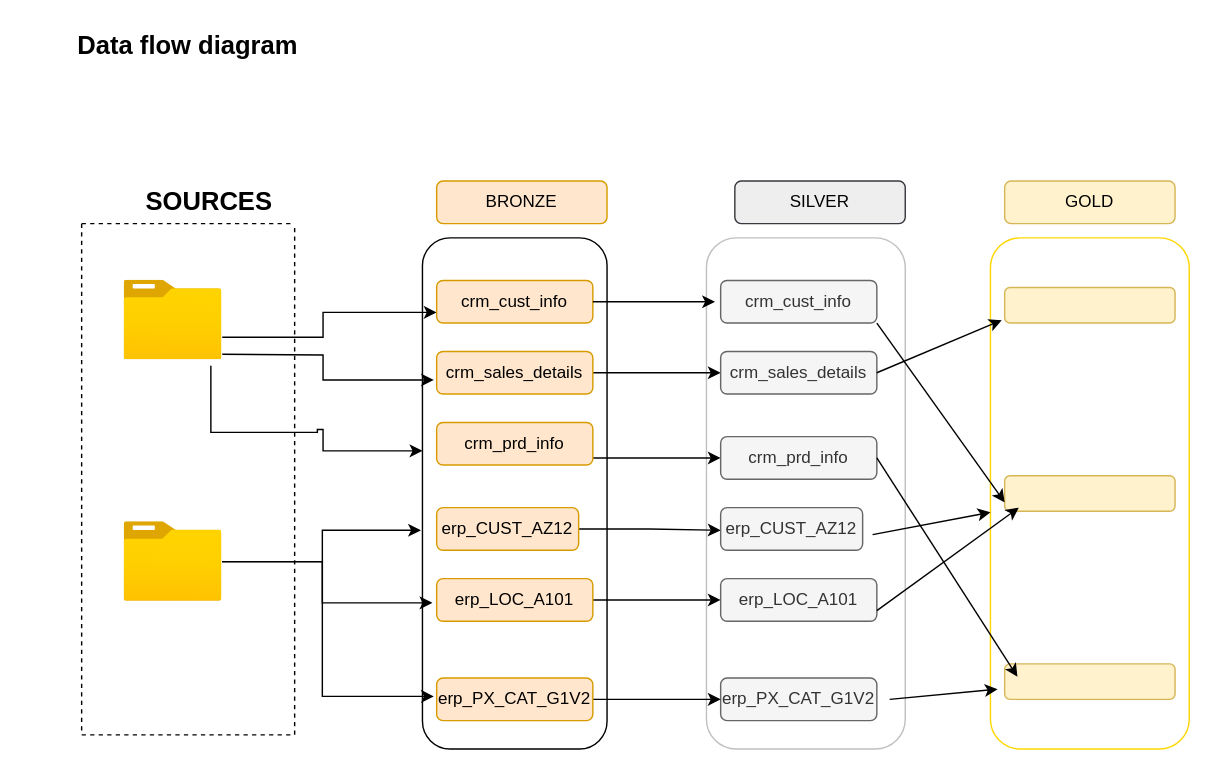
Some shapes in this 1214 by 774 pixel diagram are drawn without their labels. Each missing label, with the box of its shape:
CRM: (124, 280, 222, 359)
dim_customers: (1003, 474, 1175, 511)
dim_products: (1003, 662, 1175, 699)
ERP: (124, 521, 222, 601)
facts_sales: (1003, 286, 1175, 323)
